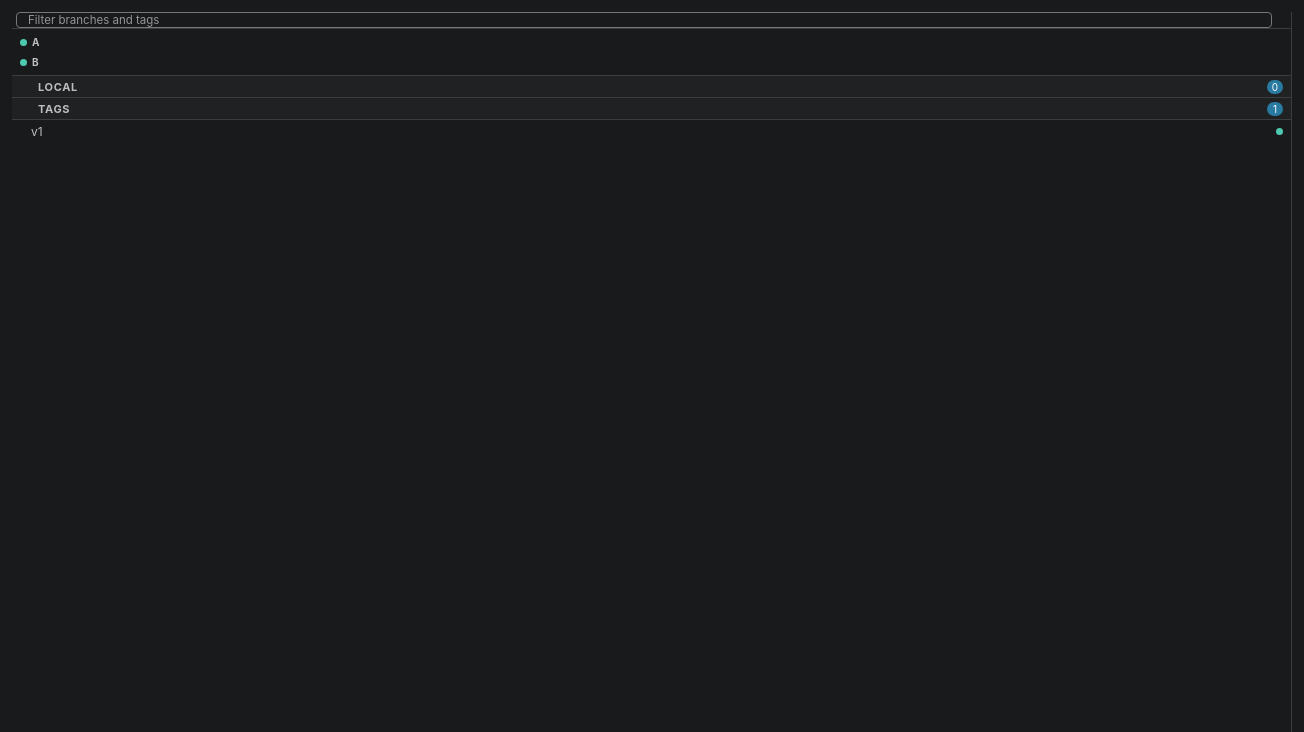
Test: plugin sidebar interaction parity › shows filtered empty tags and disables merging into detached HEAD
Right-click the button "v1" at (37, 131), box x1=12 y1=120 x2=1291 y2=142
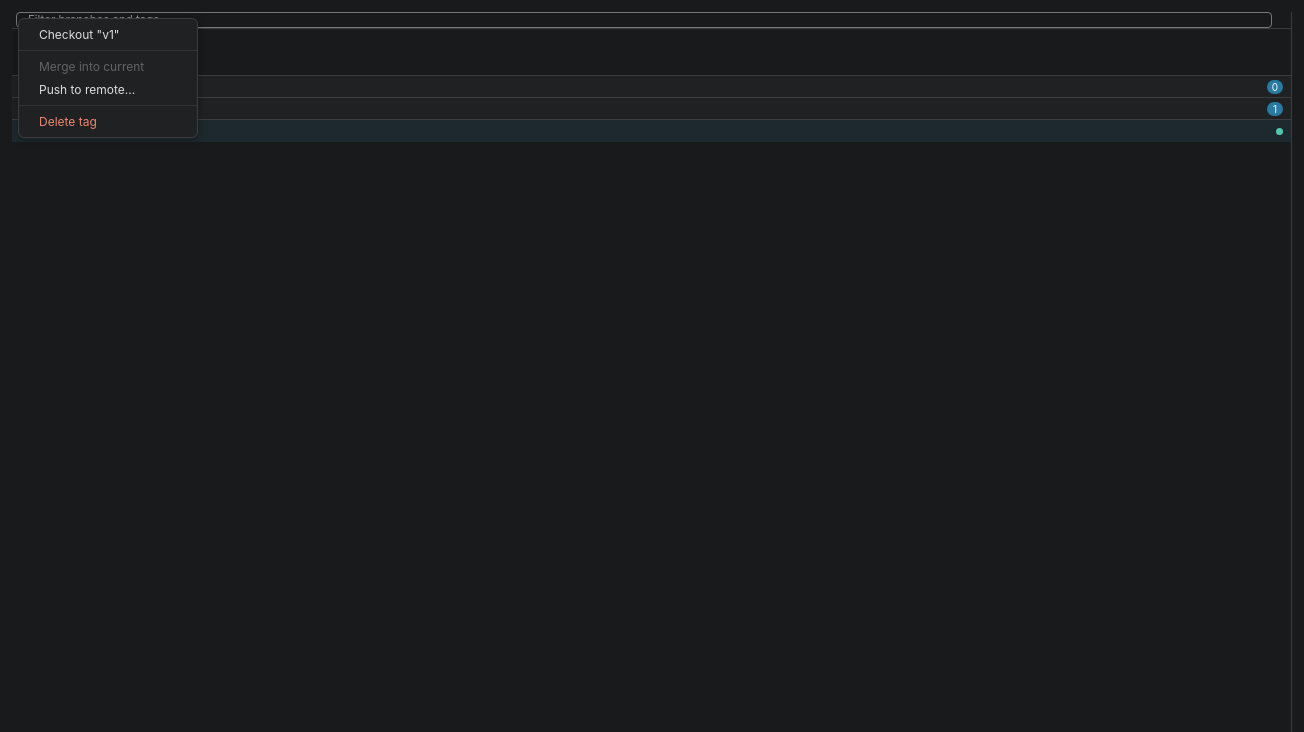
Expected: the menu item "Merge into current" is disabled, x1=19 y1=55 x2=197 y2=78
Press Escape
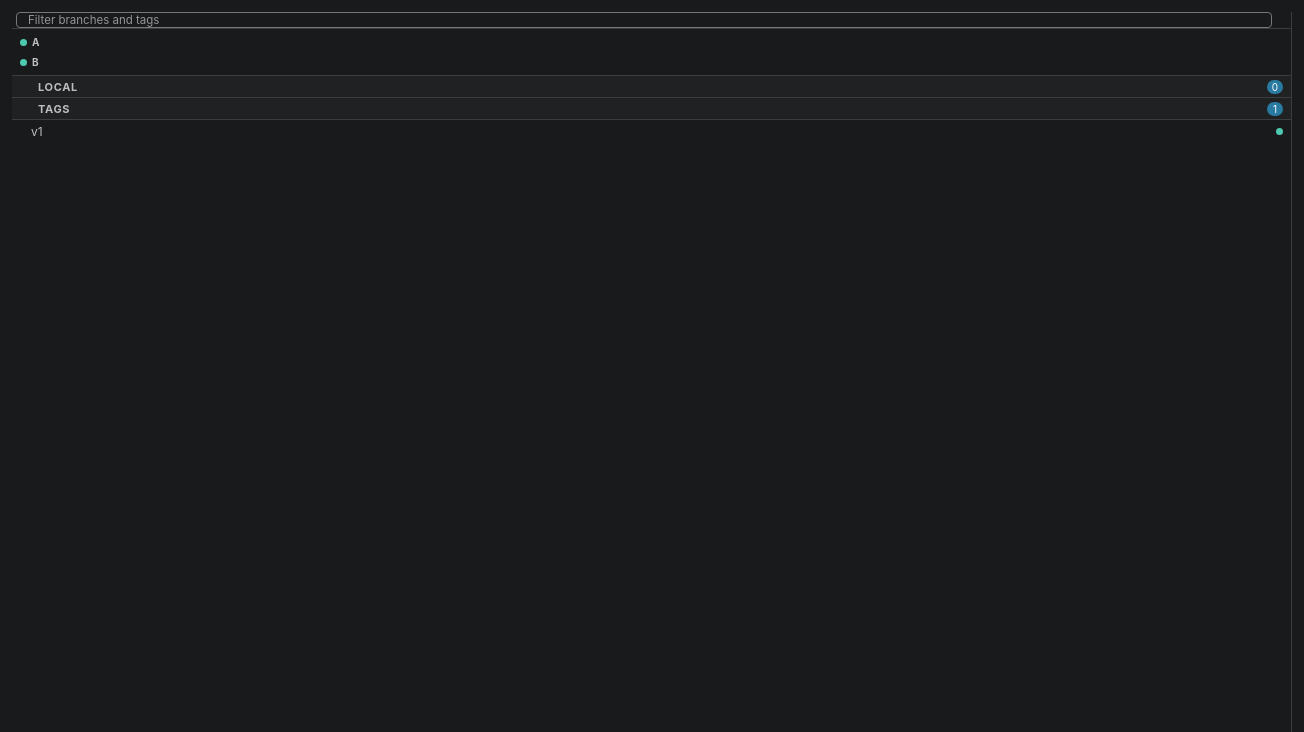
Type "absent" into the field labelled "Filter branches and tags". click: (646, 20)
box: x1=28 y1=13 x2=1265 y2=27
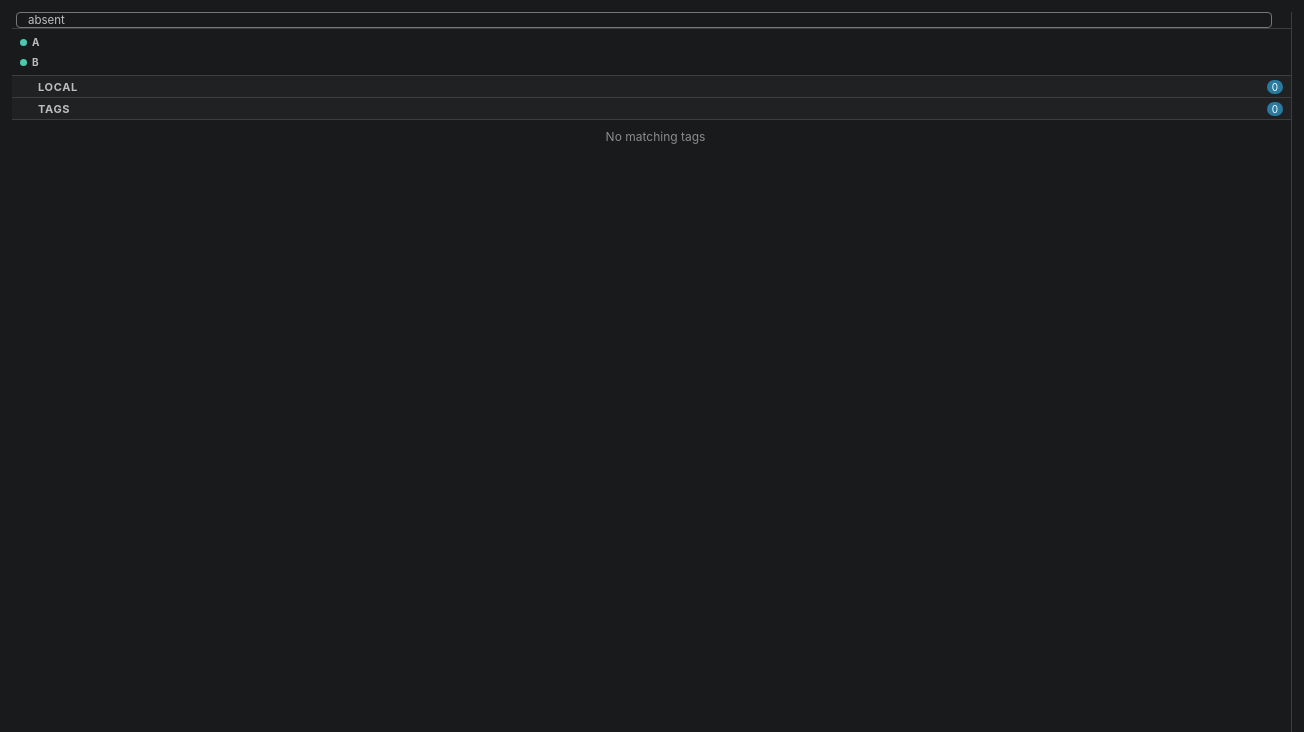
Expected: the text "No matching tags" is shown, x1=606 y1=129 x2=705 y2=144
